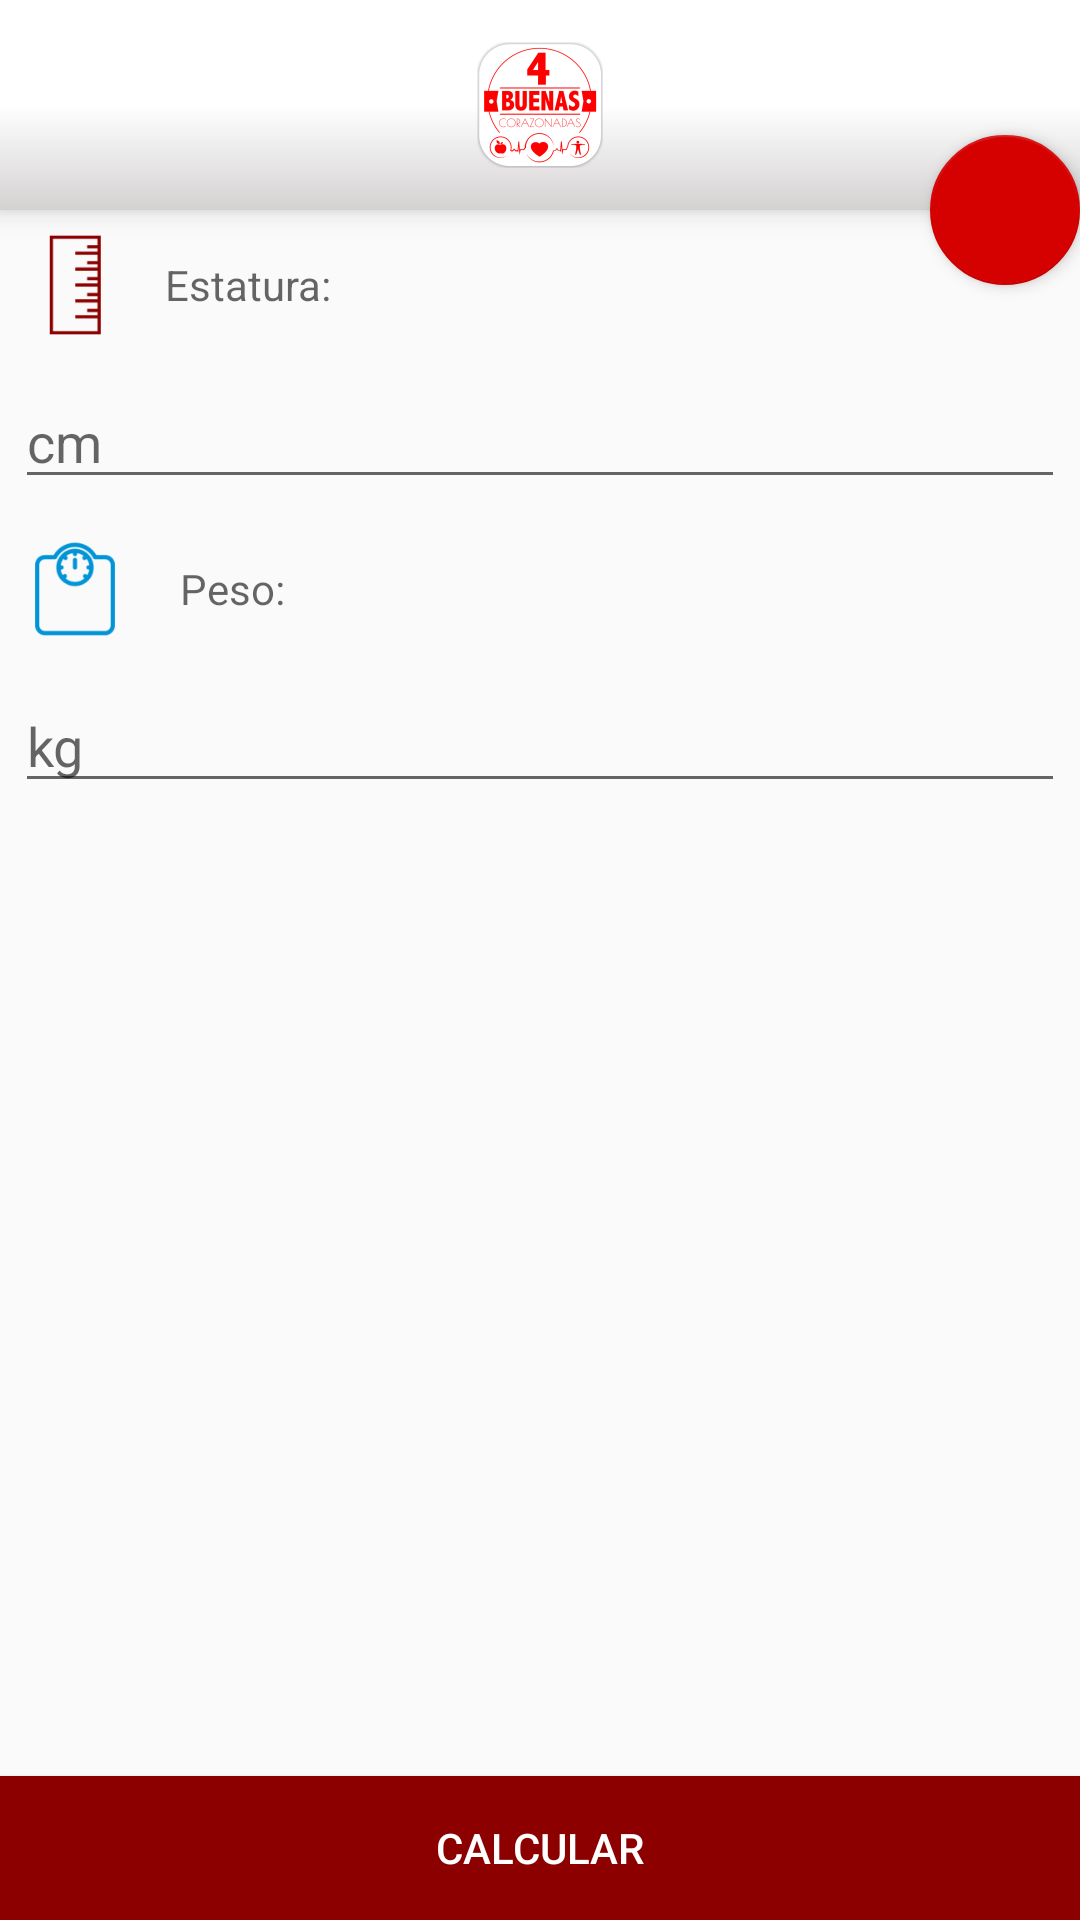

Icon click points for this 1080w x 1920h phone screenshot, format [x,y]:
rule: [75,285]
weight: [75,589]
